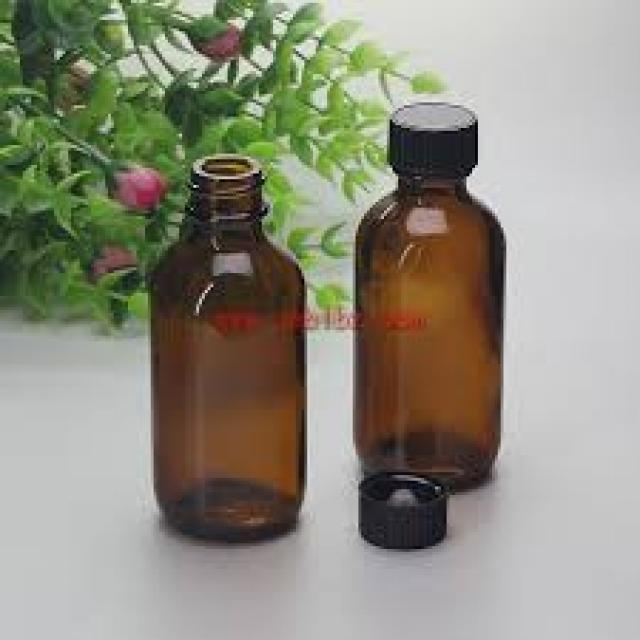organic waste: (0, 0, 384, 151), (0, 100, 171, 316), (264, 125, 387, 191), (364, 48, 444, 94), (102, 156, 165, 214), (188, 8, 247, 62), (287, 210, 344, 256), (264, 156, 298, 228), (85, 242, 131, 279), (304, 273, 344, 307)
